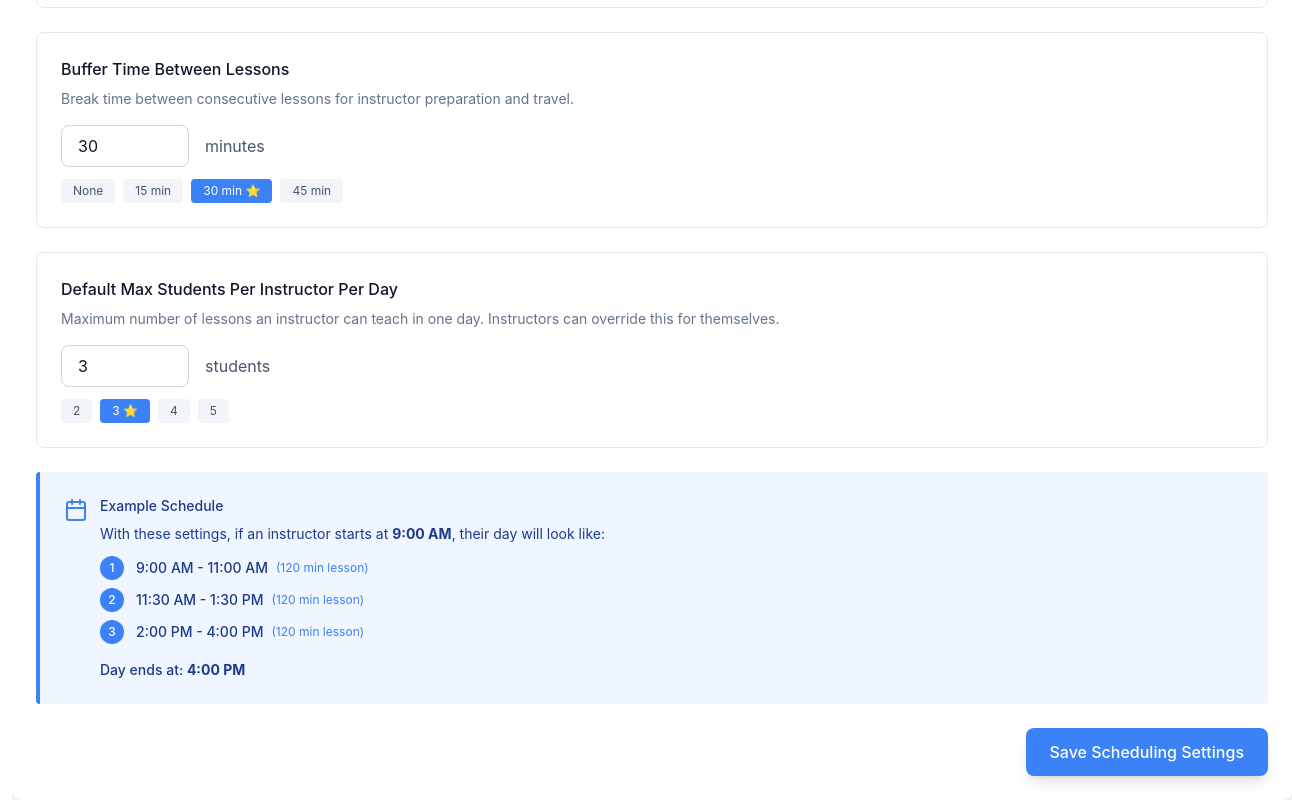
Test: Settings - Scheduling tab (capacity-based scheduling) › shows a real error message (not silence) when the save request fails
(page scrolled)
Expected: the number field labelled "Buffer Time Between Lessons" is shown, [61,125,189,167]
Click the button "Save Scheduling Settings" at (1147, 752), box [1026,728,1268,776]
(page scrolled)
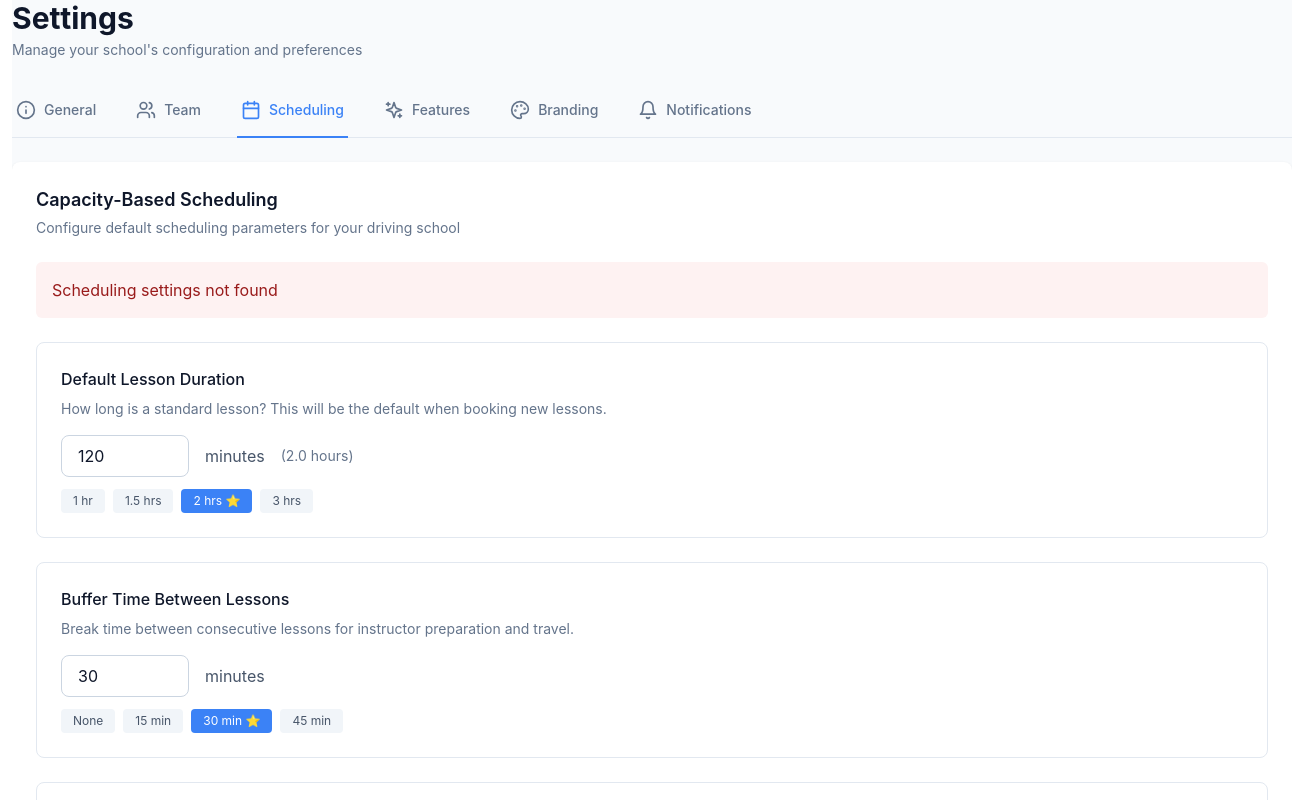
Now the text "Scheduling settings not found" is shown, box [36,262,1268,318]
